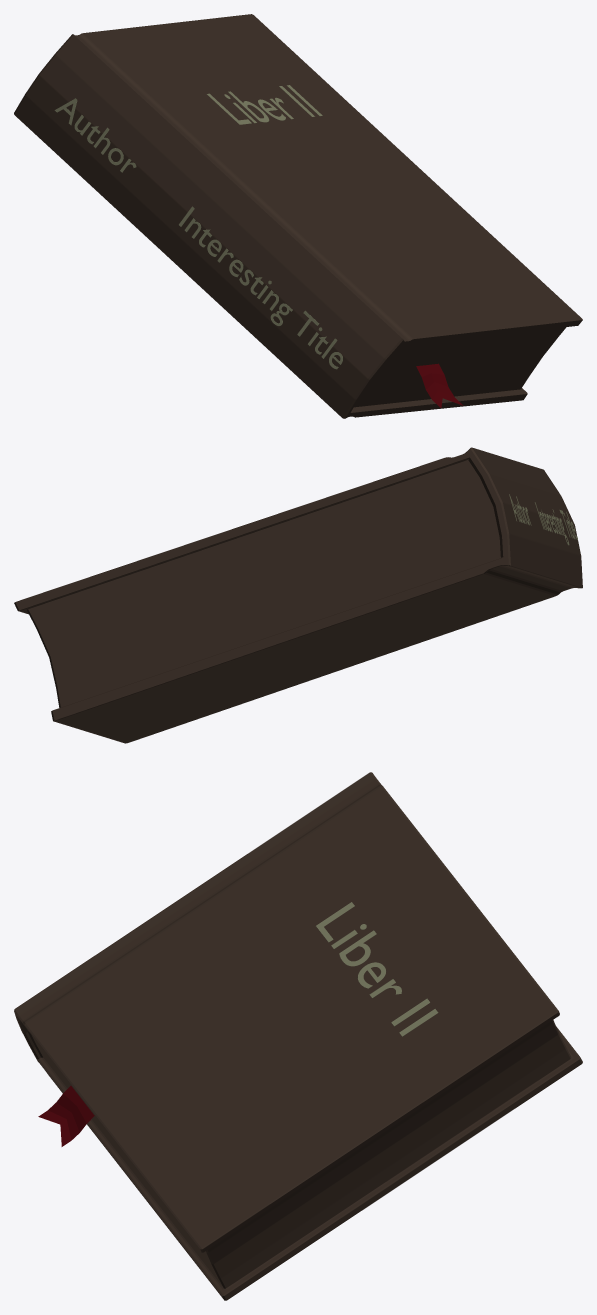
Rendered from SimpleBook1.fbx.
3 renders of one model, top to bottom at view 1: azimuth 30°, elevation 25°; view 2: azimuth 150°, elevation 25°; view 3: azimuth 270°, elevation 25°, orthographic. The views are drawn at different scales.
Visible parts, largest first — view 1: book, Text.001, Text, bookmark; view 2: book, Text.001; view 3: book, Text, bookmark.
Boxes of the visible parts, left/top/right/bottom form: book: left=14, top=14, right=582, bottom=418; Text.001: left=54, top=98, right=342, bottom=369; Text: left=207, top=85, right=322, bottom=124; bookmark: left=416, top=363, right=463, bottom=407; book: left=14, top=447, right=582, bottom=743; Text.001: left=509, top=494, right=577, bottom=545; book: left=14, top=772, right=582, bottom=1300; Text: left=316, top=902, right=438, bottom=1036; bookmark: left=38, top=1086, right=94, bottom=1146.
Bounding box in the file's own units: 233 × 191 × 271.
